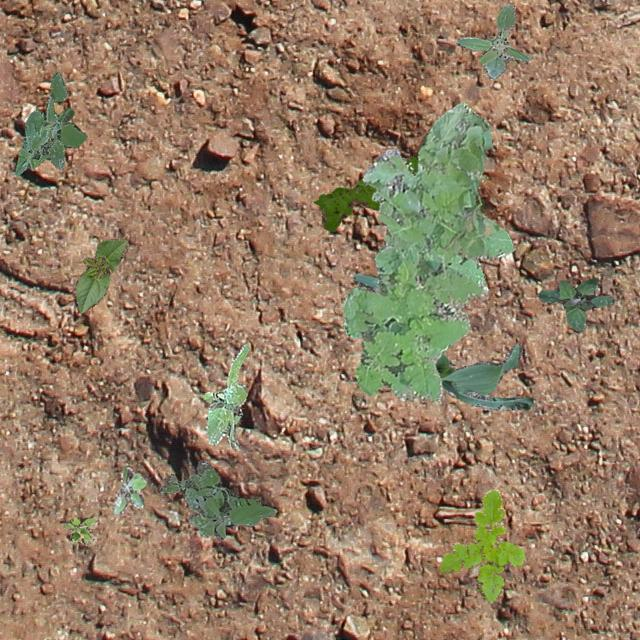crop: (352, 272, 532, 410), (74, 238, 128, 312)
weed: (342, 101, 514, 402), (312, 127, 483, 230), (438, 488, 524, 602), (160, 458, 274, 538), (14, 72, 86, 175), (454, 2, 530, 78), (202, 342, 248, 448), (536, 278, 614, 330), (112, 464, 146, 514), (62, 516, 96, 544)
